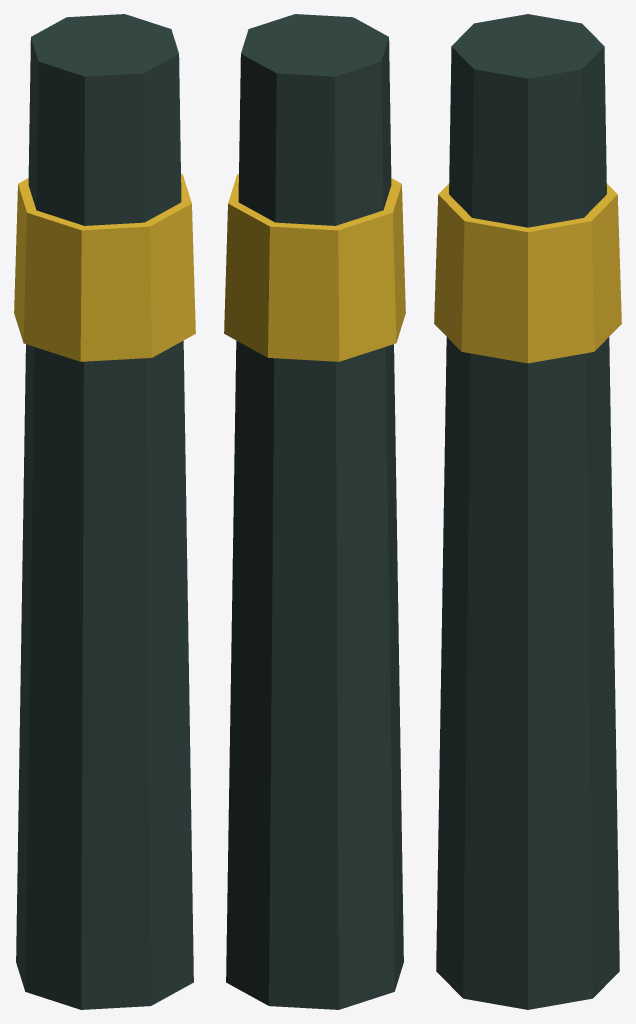
The model's file is Bollard.obj.
3 renders of one model, left to right at view 1: azimuth 30°, elevation 25°; view 2: azimuth 150°, elevation 25°; view 3: azimuth 270°, elevation 25°, orthographic.
Parts seen in each view (by area): view 1: Bollard; view 2: Bollard; view 3: Bollard.
Part boxes in pixels (bbox=[...]): Bollard: bbox=[14, 14, 195, 1009]; Bollard: bbox=[224, 14, 405, 1009]; Bollard: bbox=[434, 14, 621, 1009].
Size of the model in its own units: 0.184 by 1 by 0.184.
